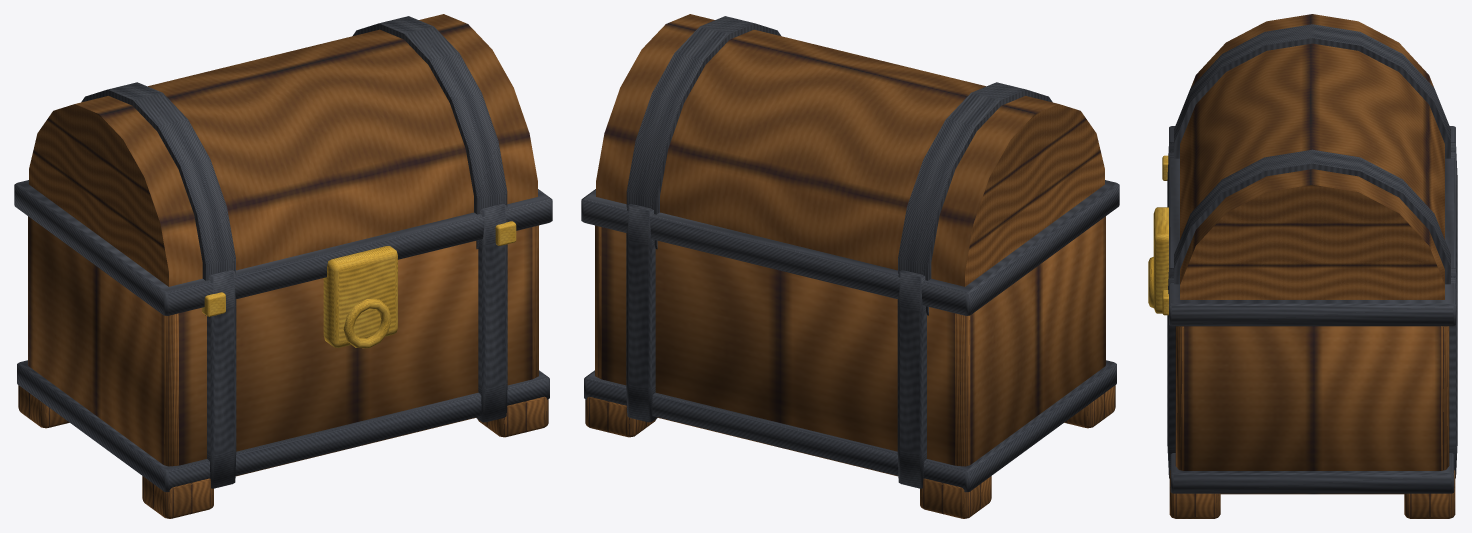
The model's file is chest.glb.
3 renders of one model, left to right at view 1: azimuth 30°, elevation 25°; view 2: azimuth 150°, elevation 25°; view 3: azimuth 270°, elevation 25°, orthographic. The views are drawn at different scales.
Parts seen in each view (by area): view 1: TreasureChest; view 2: TreasureChest; view 3: TreasureChest.
Part boxes in pixels (<box>): TreasureChest: <box>14,14,552,518</box>; TreasureChest: <box>581,14,1119,518</box>; TreasureChest: <box>1148,14,1457,518</box>.
Size of the model in its own units: 24.63 by 21.65 by 17.9.
Materials: 3 (3 with a texture image).
